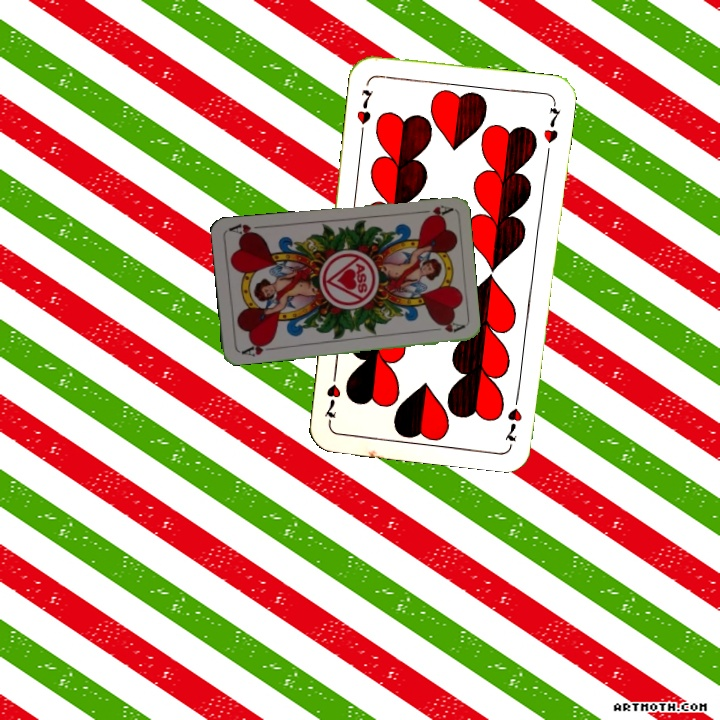H7: (352, 85, 376, 138), (502, 387, 524, 444)
HA: (413, 201, 454, 222), (238, 338, 277, 359)
